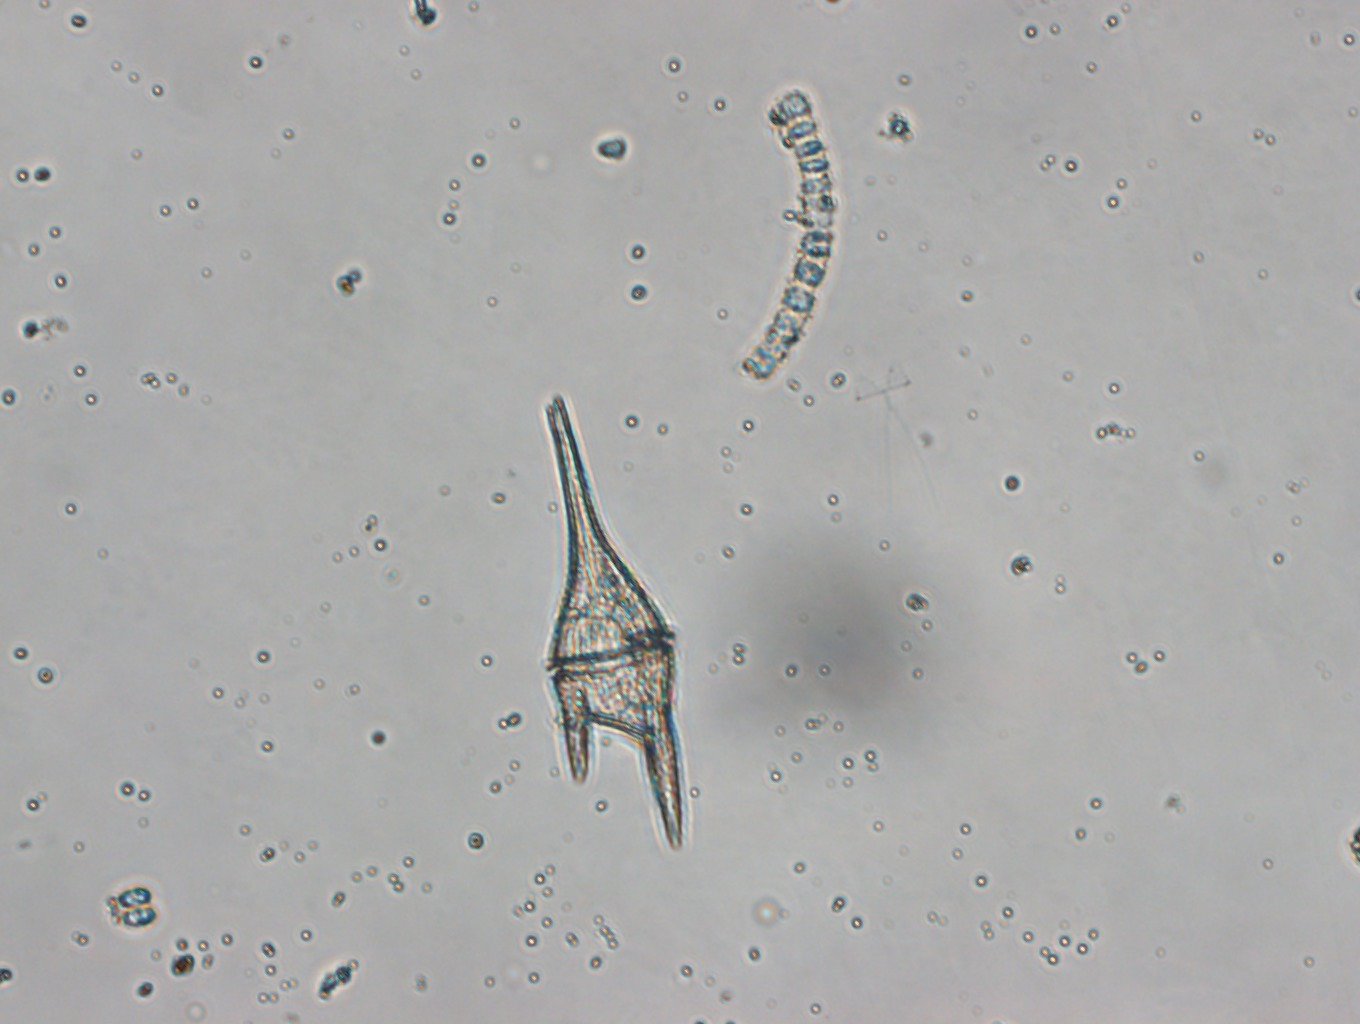ceratium furca: (543, 392, 686, 849)
chaetoceros: (738, 86, 838, 383)
